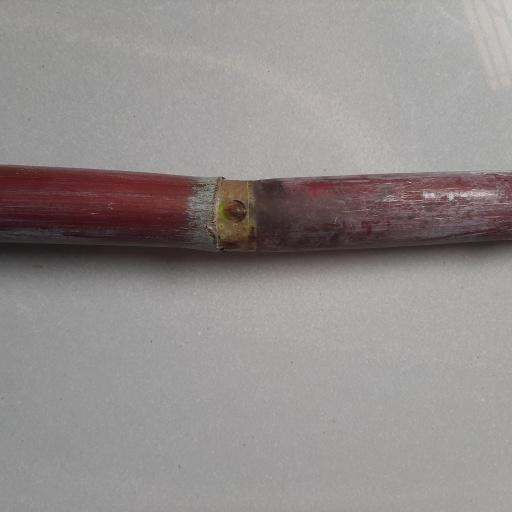Bud: (218, 198, 247, 225)
